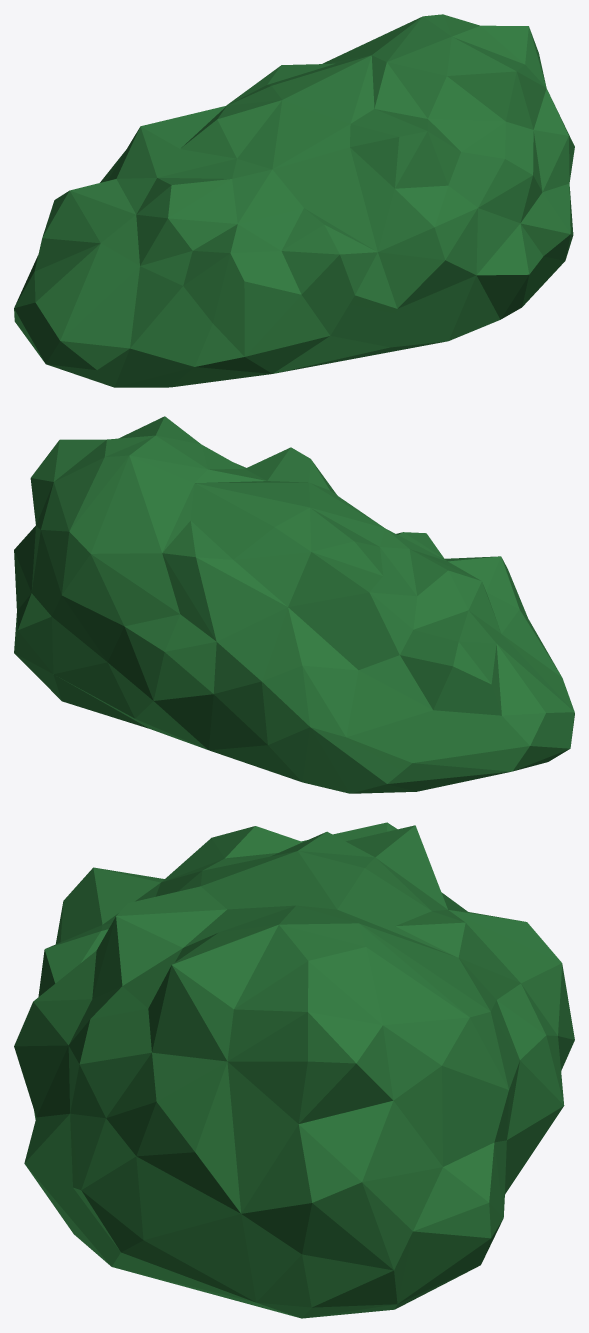
File: delh_foli_07_02.fbx
3 views of the same model, one above another, from view 1: azimuth 30°, elevation 25°; view 2: azimuth 150°, elevation 25°; view 3: azimuth 270°, elevation 25° (orthographic). The views are drawn at different scales.
Visible parts, largest first — view 1: delh_foli_07_02; view 2: delh_foli_07_02; view 3: delh_foli_07_02.
Boxes of the visible parts, left/top/right/bottom form: delh_foli_07_02: left=14, top=14, right=574, bottom=387; delh_foli_07_02: left=14, top=416, right=574, bottom=793; delh_foli_07_02: left=14, top=822, right=574, bottom=1318.
Bounding box in the file's own units: 142 × 60.91 × 89.75.
